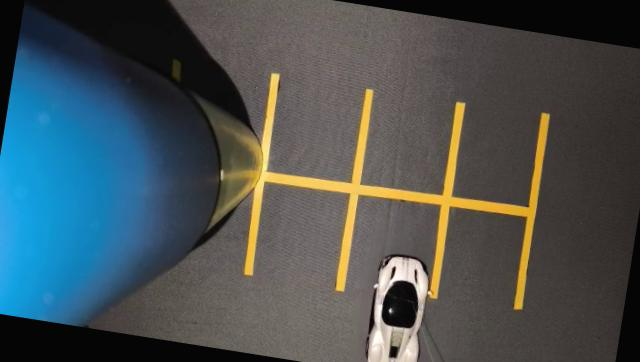toy_car: (343, 236, 444, 362)
